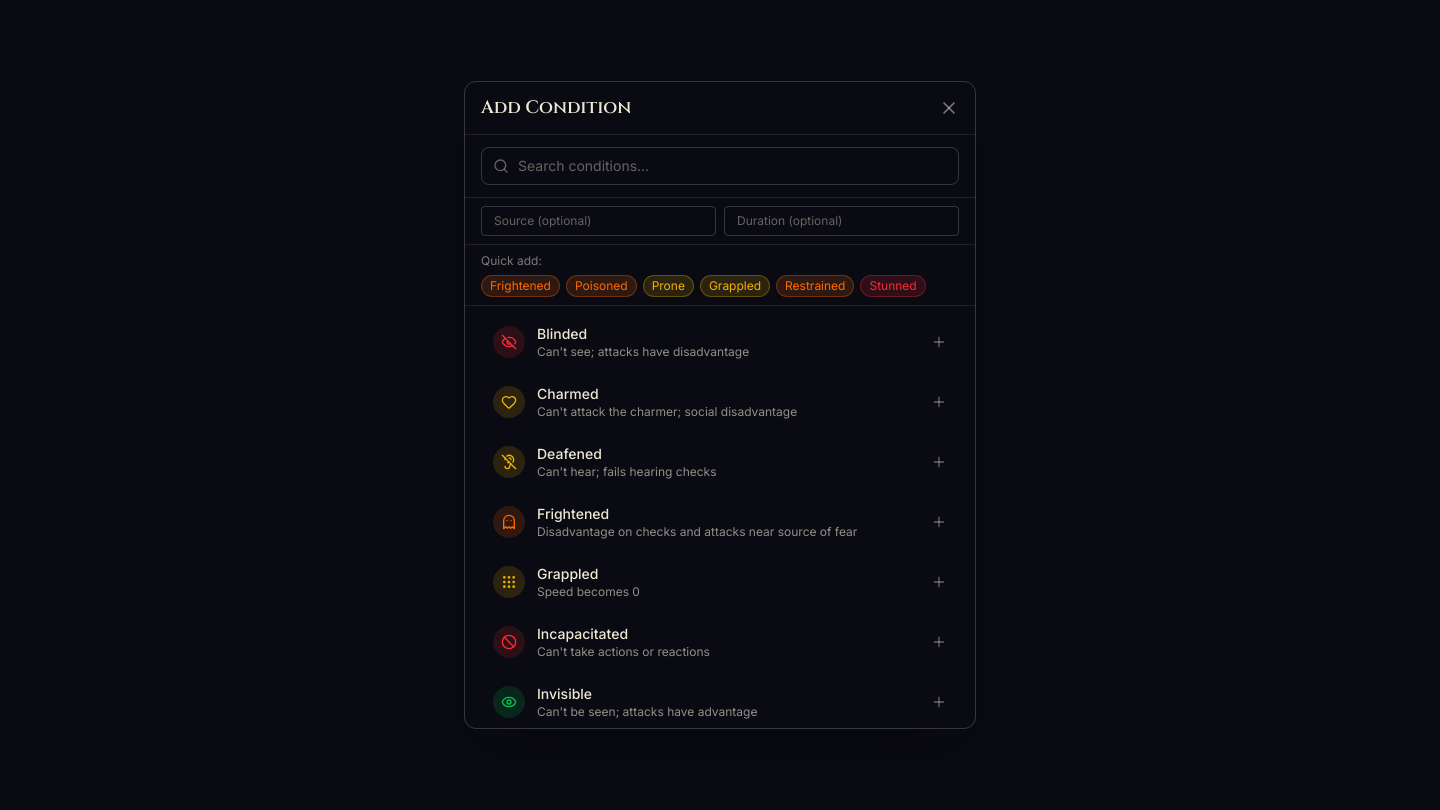
AddConditionModal › should filter conditions by search query
Type "poison" into the field with test id "condition-search-input".
click(720, 166); type("poison")  # box [481,147,959,185]
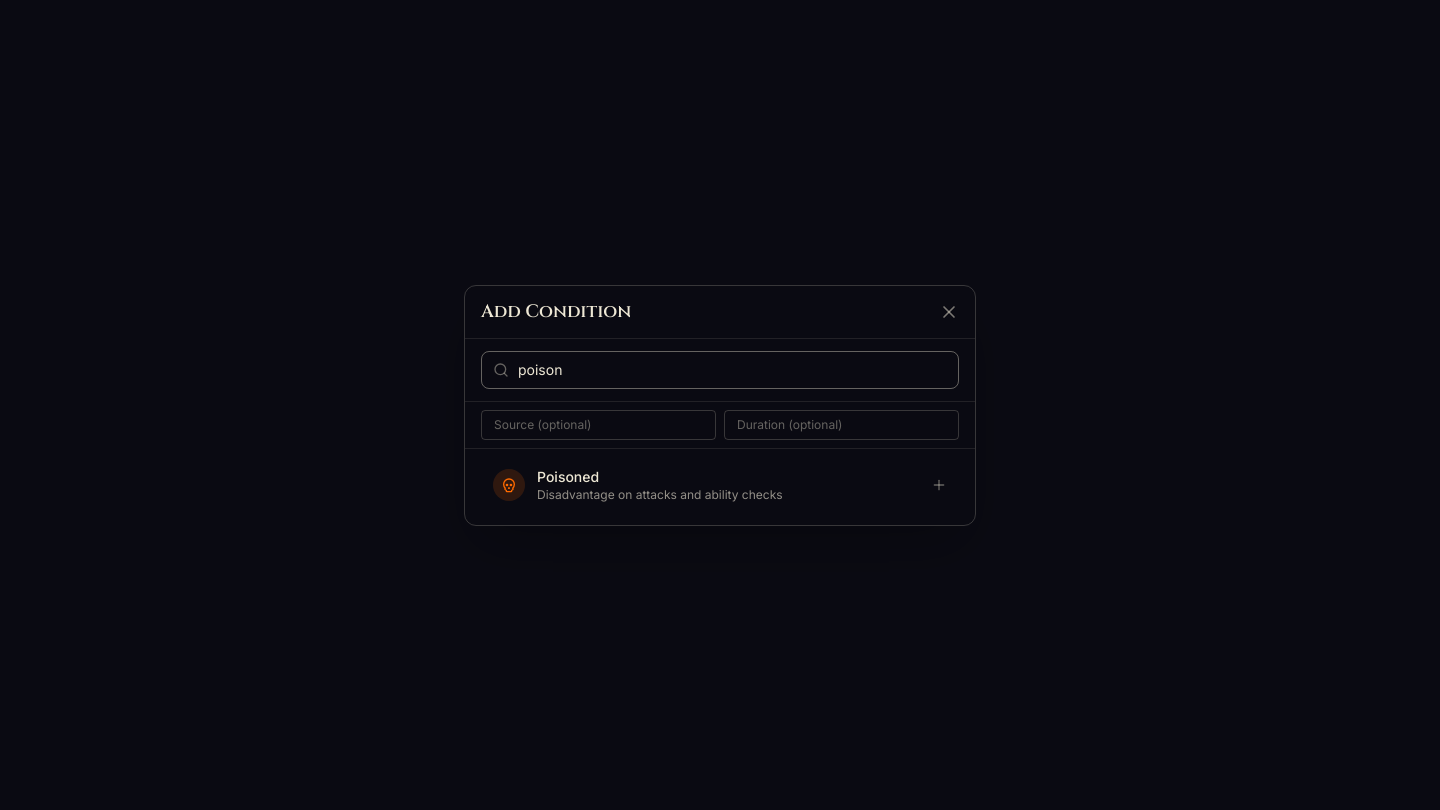
Check: the list item with test id "condition-option-poisoned" is shown, box [481,456,959,512]
Check: the list item with test id "condition-option-blinded" is gone
